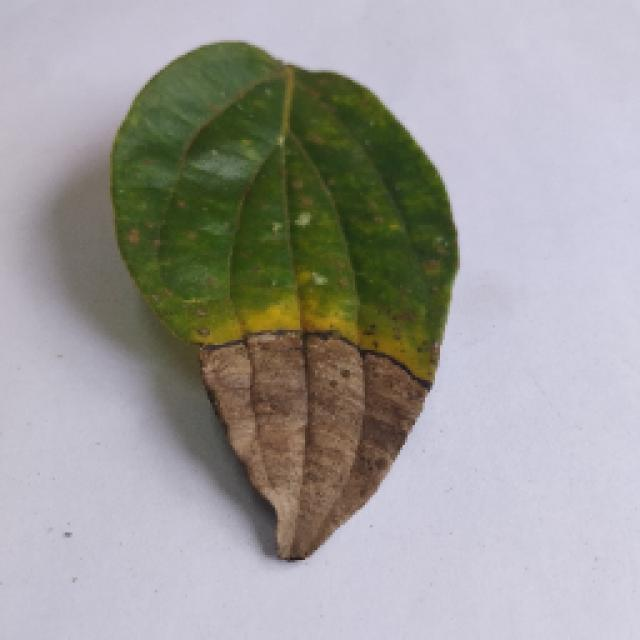footrot: (110, 38, 455, 560)
